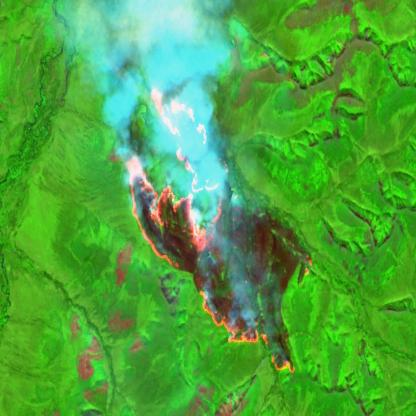fire: (123, 84, 315, 376)
